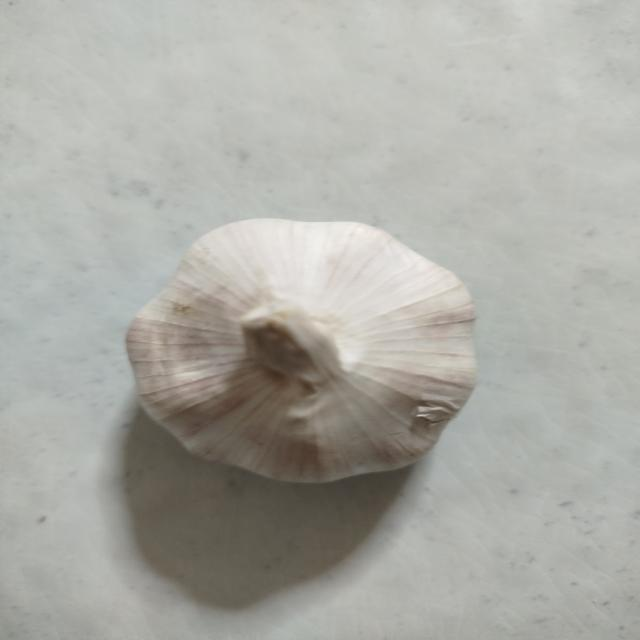garlic: (125, 217, 478, 484)
